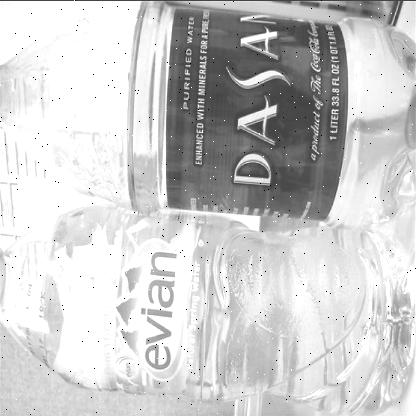Plastic Bottle: (0, 1, 416, 226), (0, 204, 415, 415)
